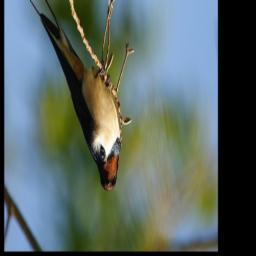Swallow: (12, 0, 120, 193)
